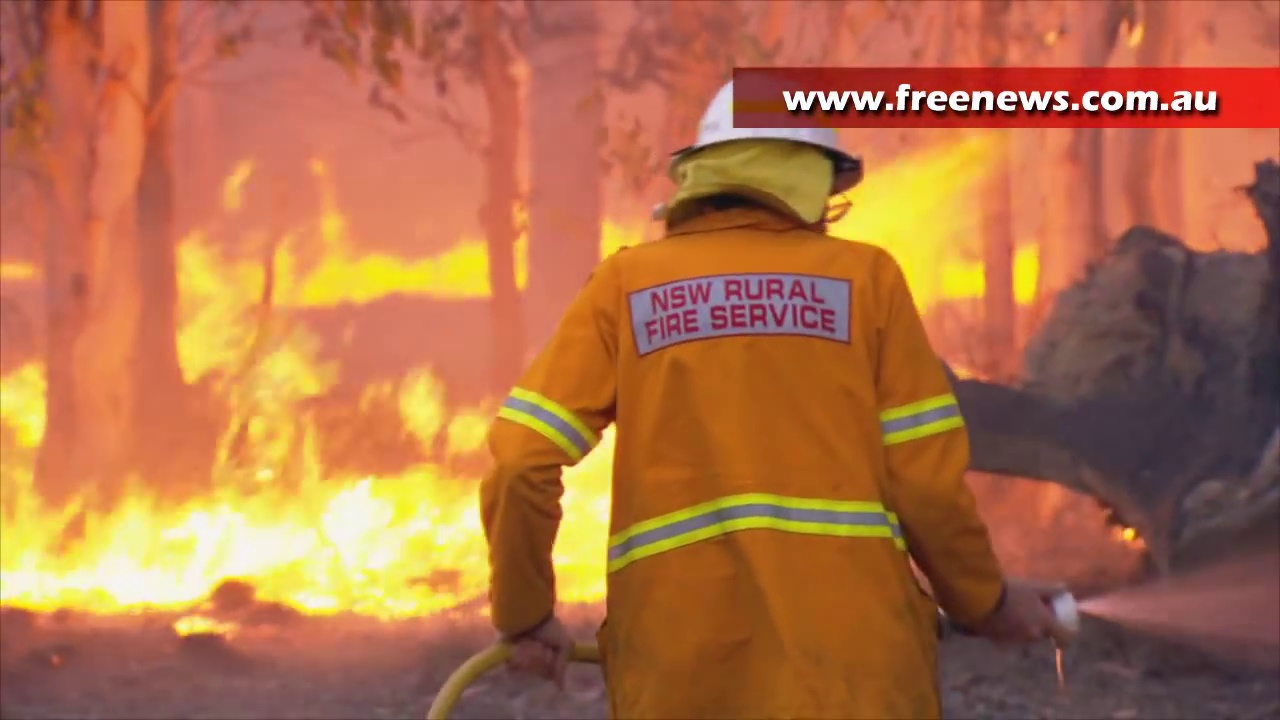fire: (5, 490, 481, 620), (173, 229, 333, 490), (860, 169, 985, 301), (291, 251, 494, 298), (398, 373, 492, 456), (551, 463, 603, 607), (4, 379, 45, 443)
